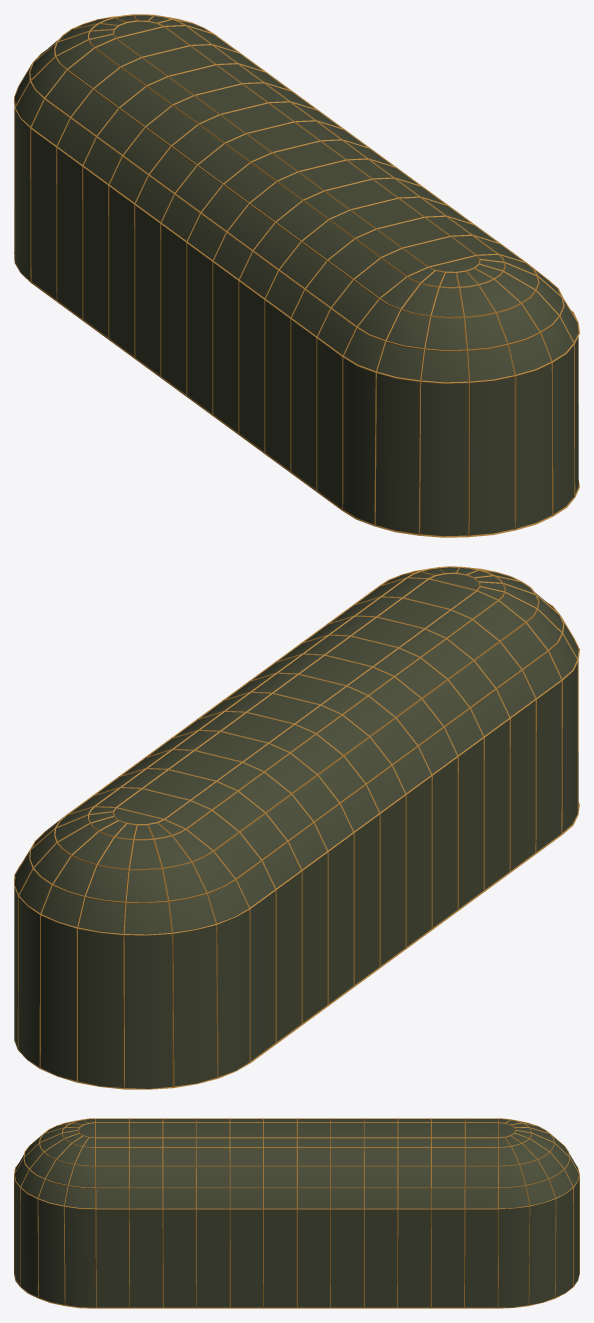
The model's file is PressurizedHangar_Giant.glb.
The picture shows the model from 3 angles, top to bottom: view 1: azimuth 30°, elevation 25°; view 2: azimuth 150°, elevation 25°; view 3: azimuth 270°, elevation 25°; orthographic projection. The views are drawn at different scales.
Visible parts, largest first — view 1: PressurizedFactory_Giant_Skin_LOD0, PressurizedFactory_Giant_Webbing_LOD0; view 2: PressurizedFactory_Giant_Skin_LOD0, PressurizedFactory_Giant_Webbing_LOD0; view 3: PressurizedFactory_Giant_Skin_LOD0, PressurizedFactory_Giant_Webbing_LOD0.
Part boxes in pixels (<box>): PressurizedFactory_Giant_Skin_LOD0: <box>14,15,578,536</box>; PressurizedFactory_Giant_Webbing_LOD0: <box>14,14,579,537</box>; PressurizedFactory_Giant_Skin_LOD0: <box>14,567,578,1088</box>; PressurizedFactory_Giant_Webbing_LOD0: <box>14,566,579,1089</box>; PressurizedFactory_Giant_Skin_LOD0: <box>14,1119,579,1307</box>; PressurizedFactory_Giant_Webbing_LOD0: <box>14,1118,579,1308</box>.
Size of what is drawn, in the model's own units: 140 by 136 by 483.
